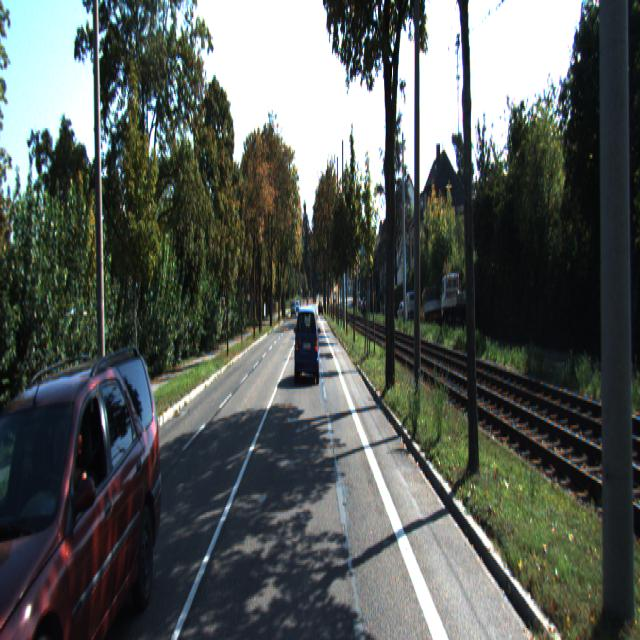Car: (0, 345, 169, 638), (440, 266, 475, 328), (294, 303, 320, 386), (420, 283, 443, 325), (404, 291, 420, 323)
